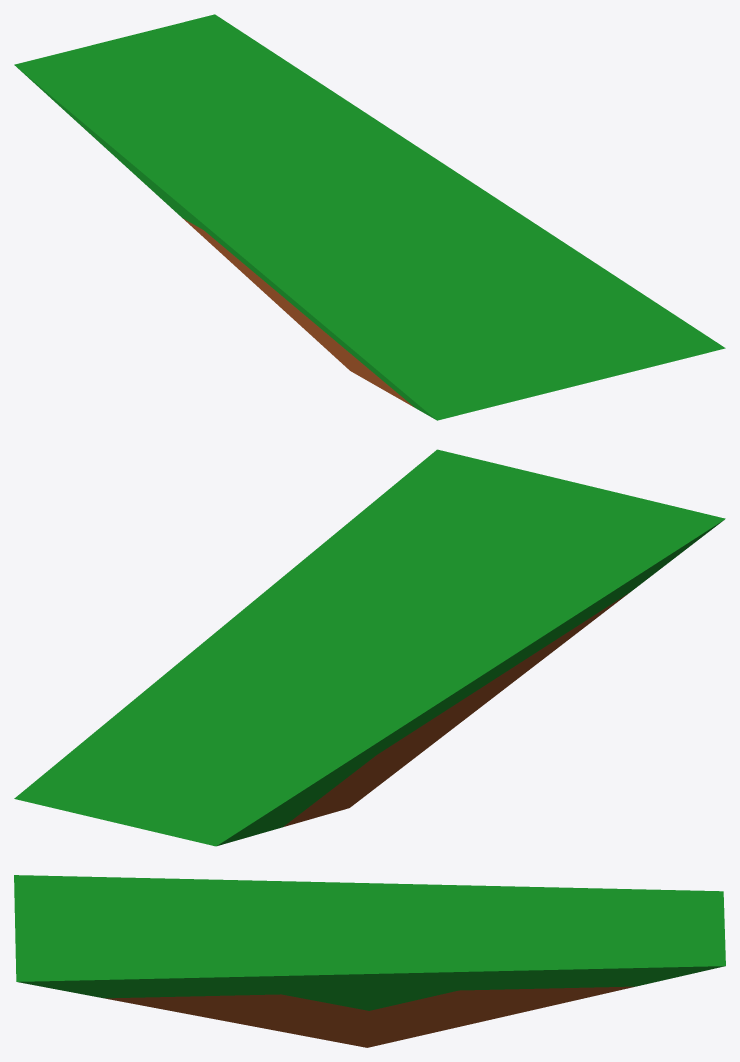
Rendered from Platform06.fbx.
3 views of the same model, one above another, from view 1: azimuth 30°, elevation 25°; view 2: azimuth 150°, elevation 25°; view 3: azimuth 270°, elevation 25° (orthographic). The views are drawn at different scales.
Parts seen in each view (by area): view 1: Cone.001; view 2: Cone.001; view 3: Cone.001.
Boxes of the visible parts, x1,y1,x2,y2 form: Cone.001: (14,14,725,420); Cone.001: (14,449,725,846); Cone.001: (14,875,725,1047).
Bounding box in the file's own units: 432 × 225 × 1212.
